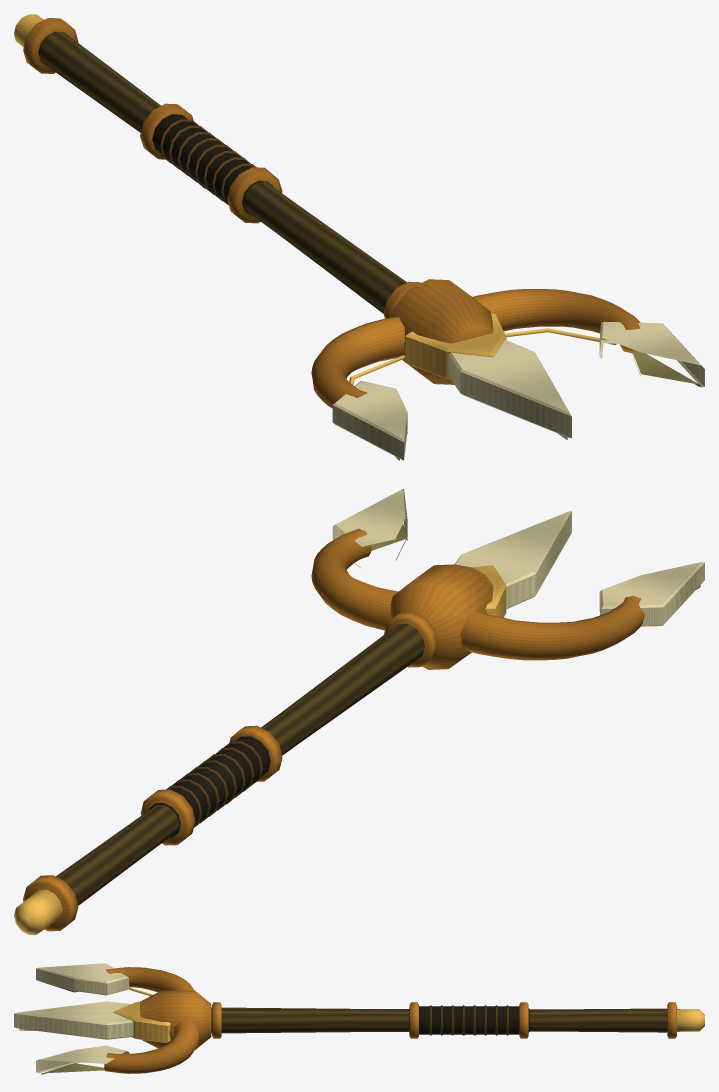
Rendered from trident.glb.
3 views of the same model, one above another, from view 1: azimuth 30°, elevation 25°; view 2: azimuth 150°, elevation 25°; view 3: azimuth 270°, elevation 25° (orthographic). The views are drawn at different scales.
Parts seen in each view (by area): view 1: Long octagonal trident staff, Swept golden trident fork (×2), Long central trident spearhead, Ivory outer trident spearhead (×2), Cast trident central socket, Dark wrapped trident grip, Trident gold engraved collar (×3), Trident socket pointed mantle, Outer spearhead darker folded facet; view 2: Swept golden trident fork (×2), Long octagonal trident staff, Ivory outer trident spearhead (×2), Cast trident central socket, Long central trident spearhead, Trident gold engraved collar (×4), Dark wrapped trident grip, Gold trident foot ferrule, Trident socket pointed mantle; view 3: Long octagonal trident staff, Swept golden trident fork (×2), Ivory outer trident spearhead (×2), Long central trident spearhead, Dark wrapped trident grip, Cast trident central socket, Trident gold engraved collar (×4), Trident socket pointed mantle, Gold trident foot ferrule, Outer spearhead darker folded facet.
Part boxes in pixels (bbox=[...]): Long octagonal trident staff: bbox=[38, 31, 406, 313]; Swept golden trident fork (×2): bbox=[311, 289, 640, 408]; Long central trident spearhead: bbox=[448, 339, 571, 438]; Ivory outer trident spearhead (×2): bbox=[332, 321, 704, 460]; Cast trident central socket: bbox=[391, 279, 493, 384]; Dark wrapped trident grip: bbox=[152, 114, 273, 215]; Trident gold engraved collar (×3): bbox=[23, 18, 282, 223]; Trident socket pointed mantle: bbox=[405, 313, 506, 379]; Outer spearhead darker folded facet: bbox=[632, 350, 700, 387]; Swept golden trident fork (×2): bbox=[311, 528, 644, 660]; Long octagonal trident staff: bbox=[56, 623, 424, 905]; Ivory outer trident spearhead (×2): bbox=[332, 489, 704, 626]; Cast trident central socket: bbox=[388, 564, 493, 669]; Long central trident spearhead: bbox=[455, 511, 571, 608]; Trident gold engraved collar (×4): bbox=[23, 611, 438, 931]; Dark wrapped trident grip: bbox=[149, 736, 270, 837]; Gold trident foot ferrule: bbox=[14, 889, 62, 934]; Trident socket pointed mantle: bbox=[472, 565, 506, 617]; Long octagonal trident staff: bbox=[211, 1007, 667, 1033]; Swept golden trident fork (×2): bbox=[104, 967, 199, 1073]; Ivory outer trident spearhead (×2): bbox=[36, 963, 129, 1073]; Long central trident spearhead: bbox=[14, 1001, 133, 1039]; Dark wrapped trident grip: bbox=[409, 1006, 529, 1034]; Cast trident central socket: bbox=[140, 990, 211, 1049]; Trident gold engraved collar (×4): bbox=[212, 1002, 677, 1038]; Trident socket pointed mantle: bbox=[113, 1001, 170, 1042]; Gold trident foot ferrule: bbox=[677, 1009, 704, 1031]; Outer spearhead darker folded facet: bbox=[41, 1063, 104, 1074].
Size of the model in its own units: 3430 by 858 by 9823.
8 materials, 8 textured.
